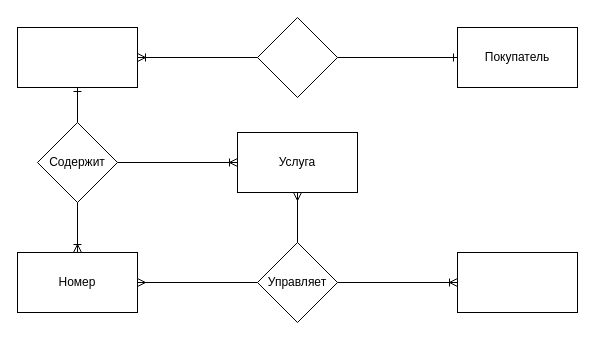
The diagram is 595 pixels wide and 340 high, and some of its shapes have lost their labels. Each missing label, with the centre of its shape:
Админ: point 517,282
Бронь: point 77,57
Оформляет: point 297,57
